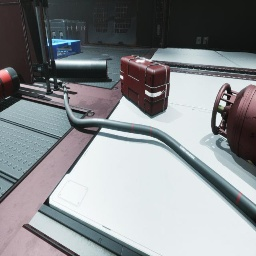FireExtinguisher ]: (0, 67, 20, 102)
FirstAidBox ,: (120, 55, 170, 116)
NitrogenTank ,: (211, 82, 256, 168)
